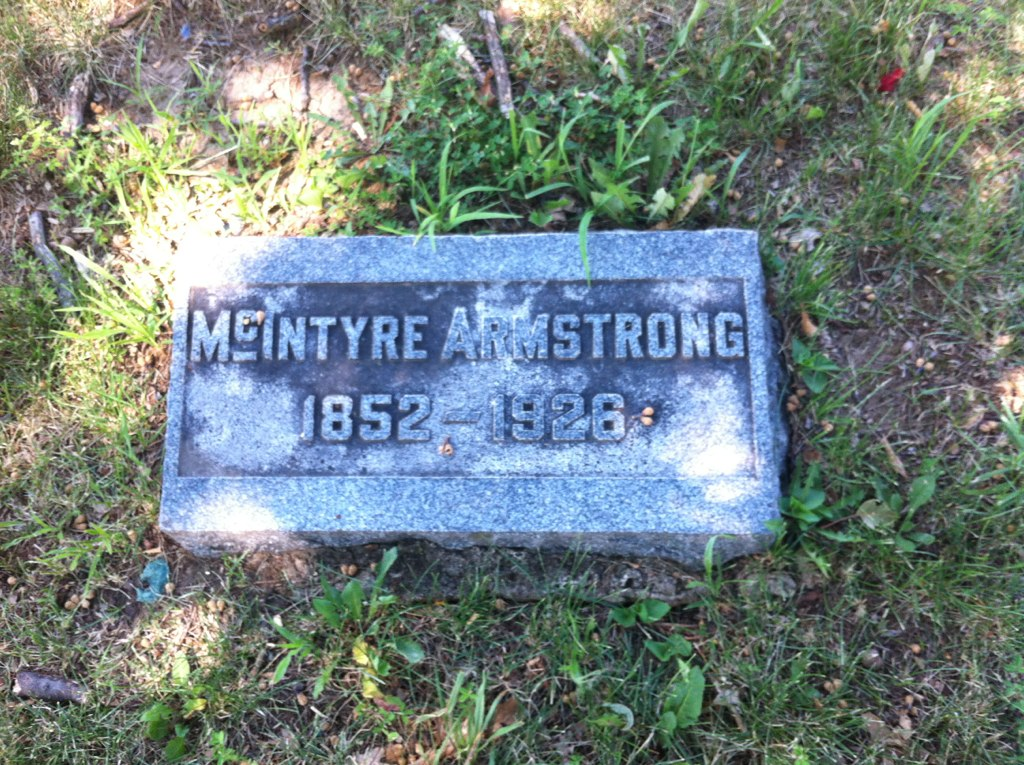flat: (159, 226, 785, 571)
